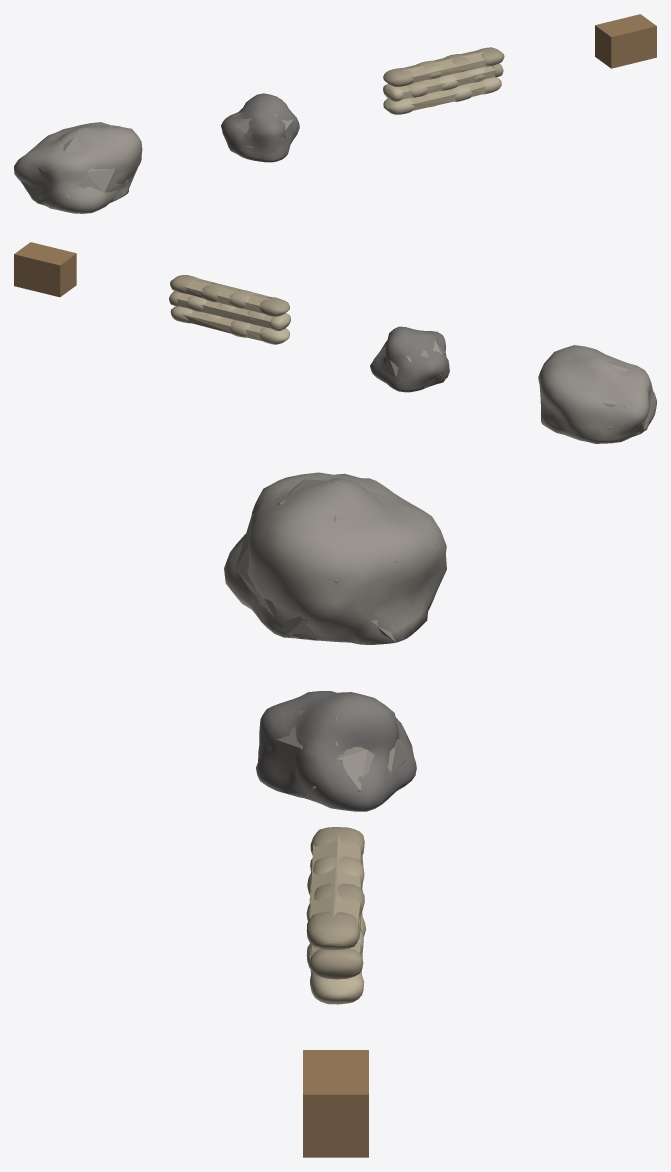
File: props_1.glb
3 views of the same model, one above another, from view 1: azimuth 30°, elevation 25°; view 2: azimuth 150°, elevation 25°; view 3: azimuth 270°, elevation 25° (orthographic). The views are drawn at different scales.
Parts seen in each view (by area): view 1: rock_boulder_a, rock_boulder_b, sandbag_wall, COL_crate_wood, COL_sandbag_wall, COL_rock_boulder_a, COL_rock_boulder_b; view 2: rock_boulder_a, rock_boulder_b, sandbag_wall, COL_crate_wood, COL_sandbag_wall, crate_wood, COL_rock_boulder_a, COL_rock_boulder_b; view 3: rock_boulder_a, rock_boulder_b, sandbag_wall, COL_crate_wood, COL_sandbag_wall, COL_rock_boulder_b, COL_rock_boulder_a, crate_wood.
Part boxes in pixels (x1=…): rock_boulder_a: x1=14, y1=122, x2=142, y2=213; rock_boulder_b: x1=221, y1=93, x2=299, y2=162; sandbag_wall: x1=383, y1=47, x2=504, y2=114; COL_crate_wood: x1=595, y1=14, x2=656, y2=68; COL_sandbag_wall: x1=391, y1=50, x2=498, y2=110; COL_rock_boulder_a: x1=20, y1=126, x2=137, y2=200; COL_rock_boulder_b: x1=224, y1=100, x2=292, y2=149; rock_boulder_a: x1=538, y1=345, x2=656, y2=443; rock_boulder_b: x1=370, y1=326, x2=449, y2=392; sandbag_wall: x1=169, y1=275, x2=290, y2=344; COL_crate_wood: x1=14, y1=242, x2=76, y2=296; COL_sandbag_wall: x1=176, y1=278, x2=273, y2=342; crate_wood: x1=14, y1=256, x2=76, y2=296; COL_rock_boulder_a: x1=540, y1=354, x2=649, y2=432; COL_rock_boulder_b: x1=373, y1=329, x2=444, y2=386; rock_boulder_a: x1=224, y1=472, x2=446, y2=644; rock_boulder_b: x1=256, y1=691, x2=416, y2=811; sandbag_wall: x1=306, y1=827, x2=366, y2=1004; COL_crate_wood: x1=303, y1=1050, x2=368, y2=1157; COL_sandbag_wall: x1=309, y1=835, x2=362, y2=981; COL_rock_boulder_b: x1=260, y1=693, x2=408, y2=799; COL_rock_boulder_a: x1=235, y1=479, x2=436, y2=642; crate_wood: x1=303, y1=1099, x2=368, y2=1157.
Bounding box in the file's own units: 10.94 × 1.02 × 1.69.
